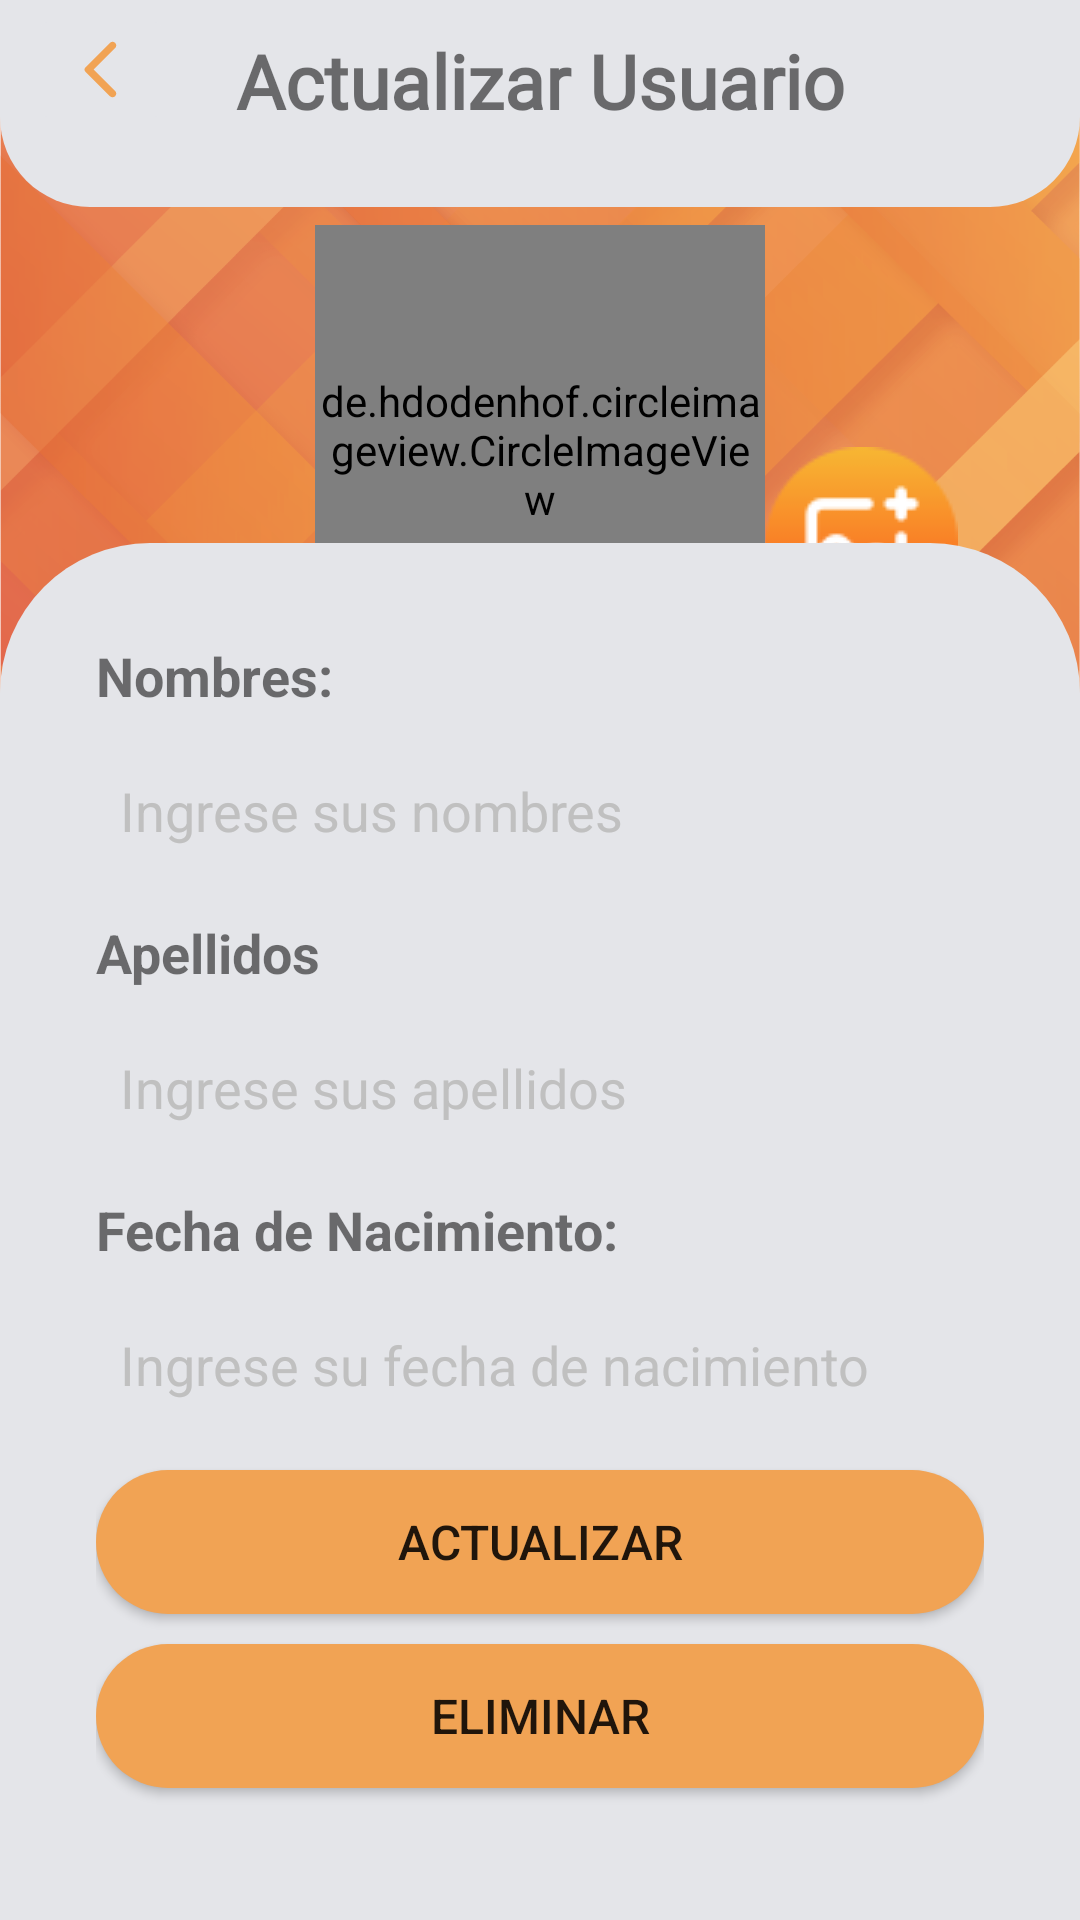

Where icons sit on this 1080*1920 app screen, as [x1, y1, x2, y2]:
arrow back: [84, 41, 117, 98]
